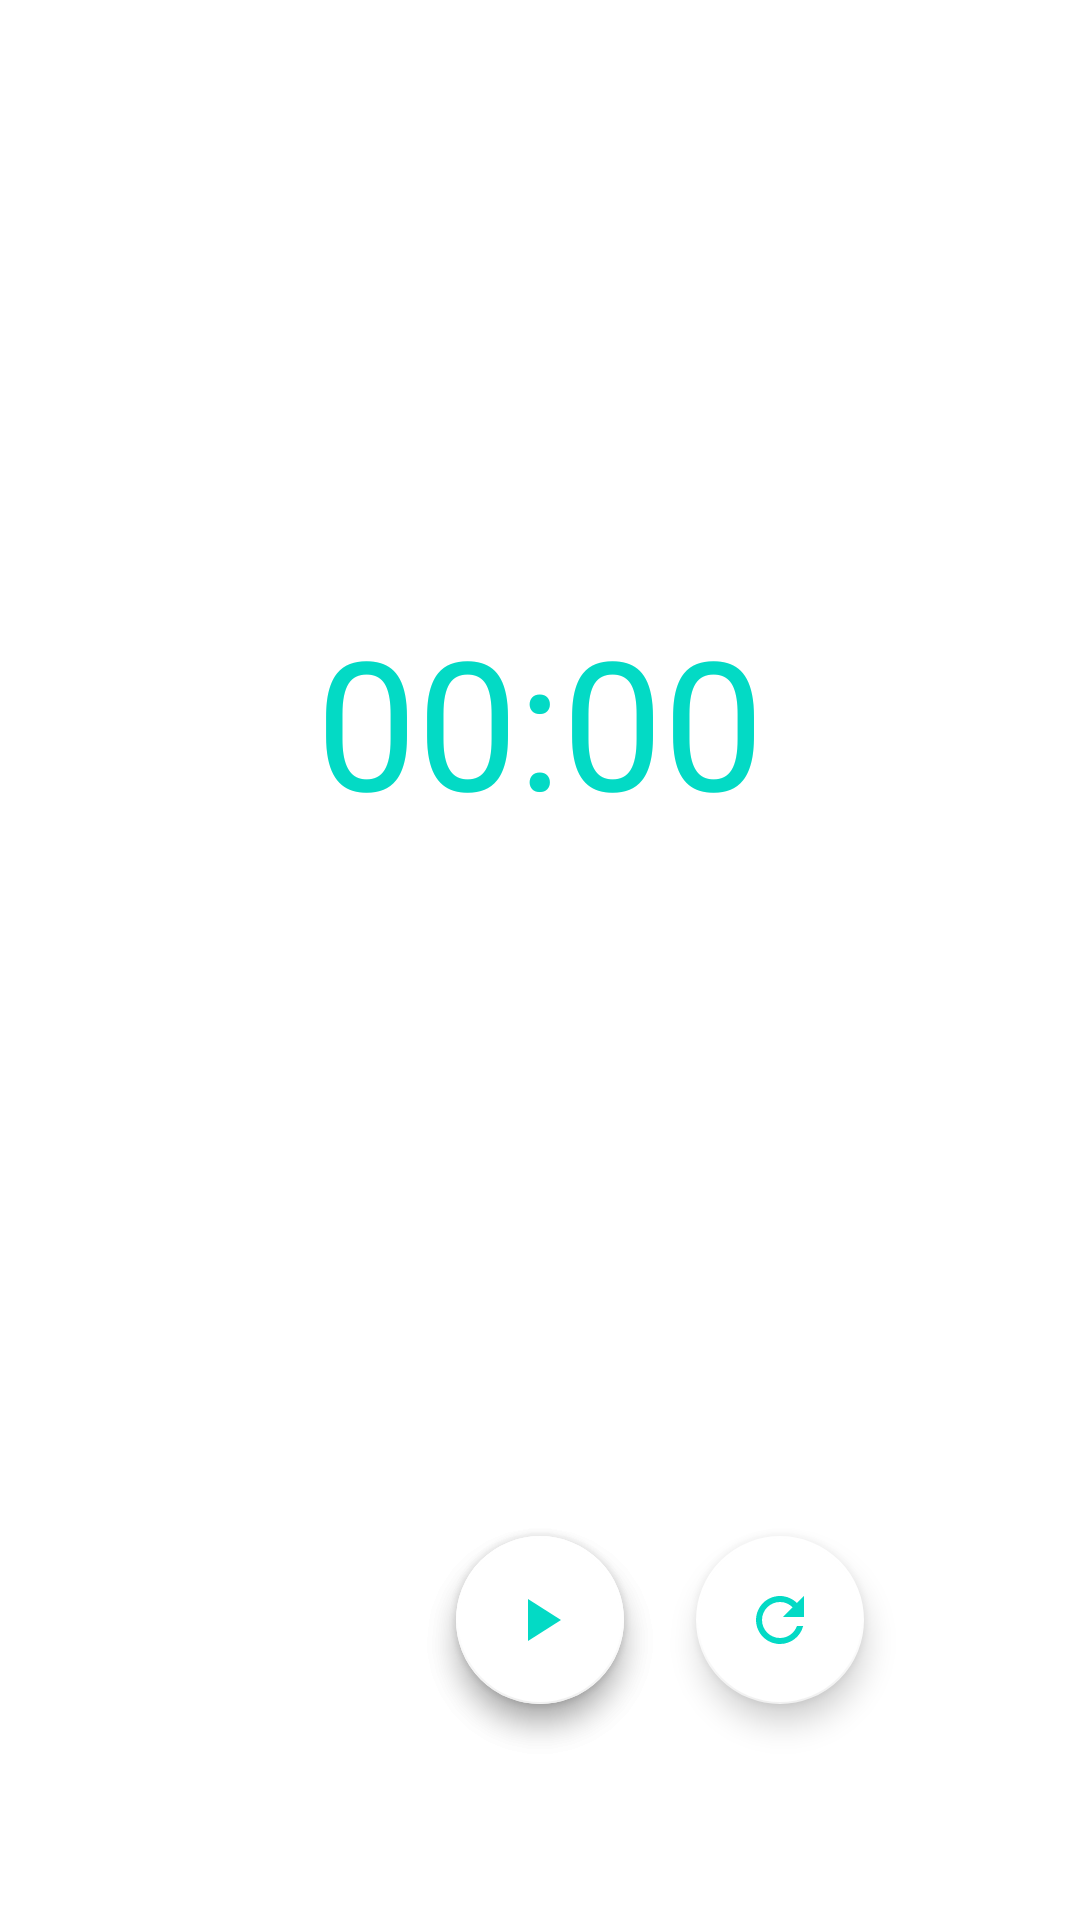

Screen size 1080w x 1920h. Icon name, then its center in pixels as [x,y]:
refresh: [781,1650]
